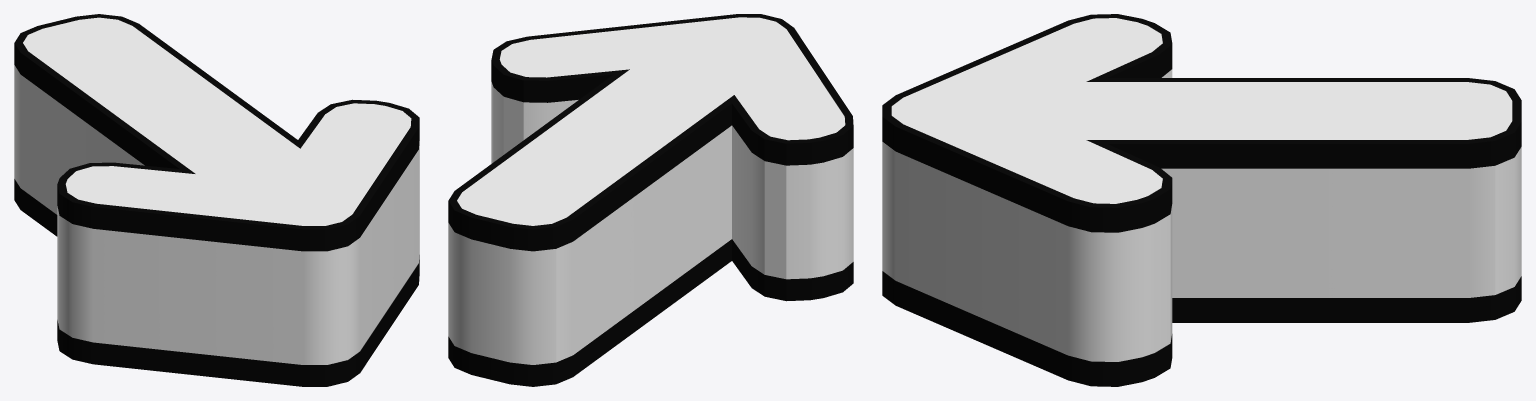
File: Spinner.fbx
3 views of the same model, side by side, from view 1: azimuth 30°, elevation 25°; view 2: azimuth 150°, elevation 25°; view 3: azimuth 270°, elevation 25° (orthographic). The views are drawn at different scales.
Parts seen in each view (by area): view 1: Mesh-Pointer; view 2: Mesh-Pointer; view 3: Mesh-Pointer.
Boxes of the visible parts, x1,y1,x2,y2 form: Mesh-Pointer: (14, 14, 419, 386); Mesh-Pointer: (448, 14, 853, 386); Mesh-Pointer: (882, 14, 1521, 386).
Size of the model in its own units: 0.536 by 0.2307 by 0.7465.
Materials: 1 (1 with a texture image).
